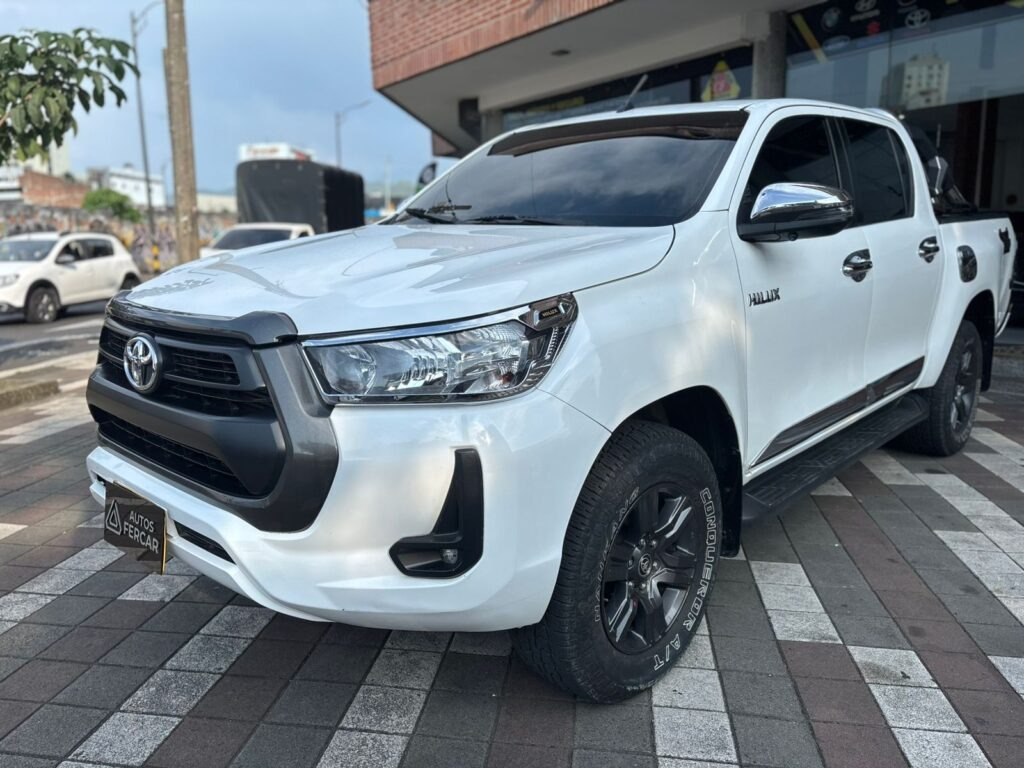car: (82, 61, 1002, 691), (1, 229, 136, 323)
